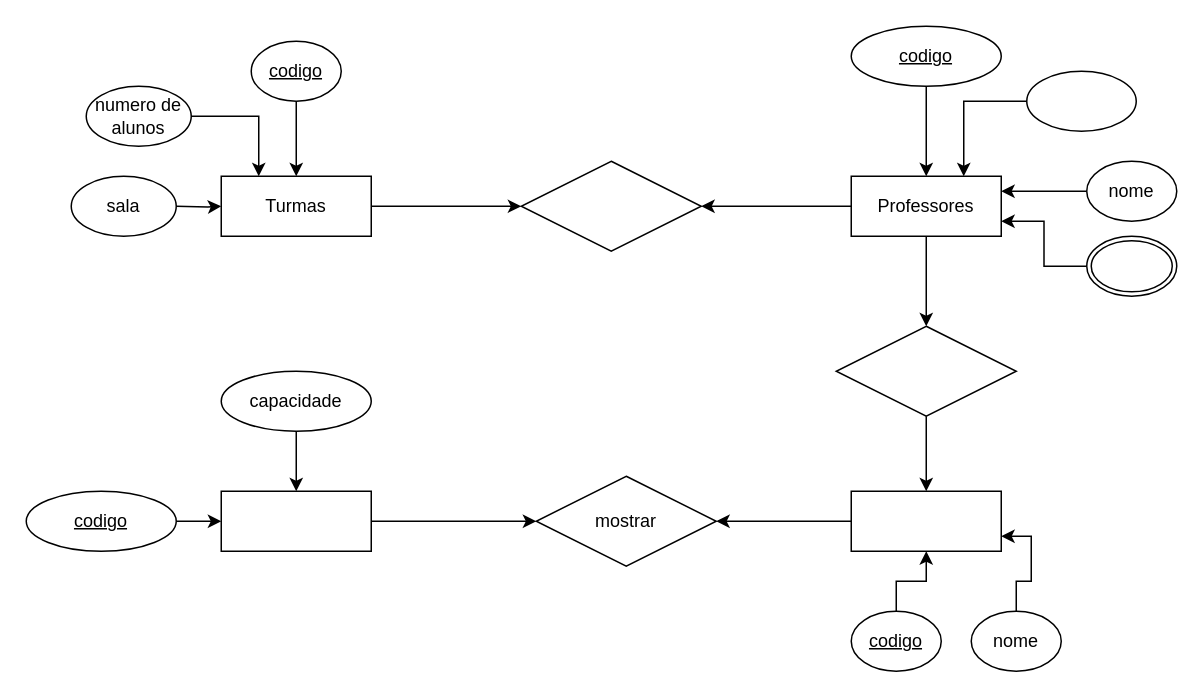
Image size: 1203x698. Some labels were removed from this diagram. Here are the shapes that lost their labels. From the top down, the box of each, then its label:
(1025, 70, 1136, 131): cpf
(520, 160, 701, 251): Cadastrar
(1085, 235, 1177, 296): Telefone
(835, 325, 1016, 416): leciona
(220, 490, 371, 551): Salas
(850, 490, 1001, 551): Diciplinas
